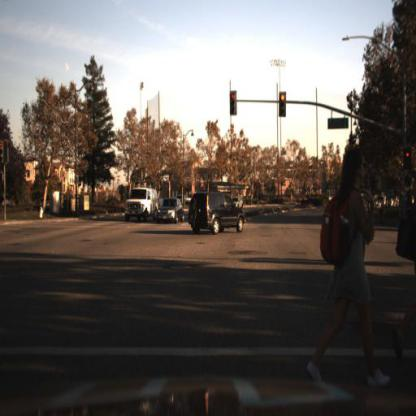car: (187, 192, 249, 234), (126, 183, 159, 225), (157, 198, 188, 227)
pedestrian: (309, 146, 395, 394)
trafficLight-Red: (403, 146, 415, 174), (278, 88, 288, 121)
trafficLight-RedLeft: (229, 88, 239, 119)
